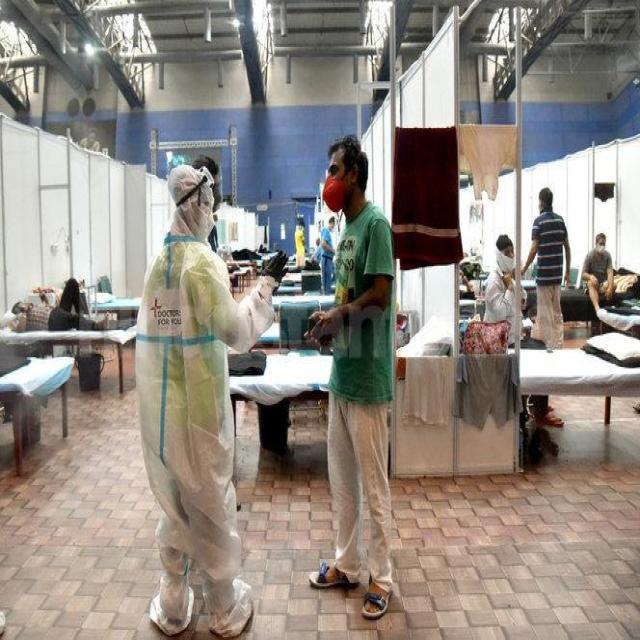Coverall: (128, 152, 275, 629)
Gloves: (252, 222, 300, 291)
Goggles: (173, 158, 216, 205)
Mask: (316, 163, 346, 222)
